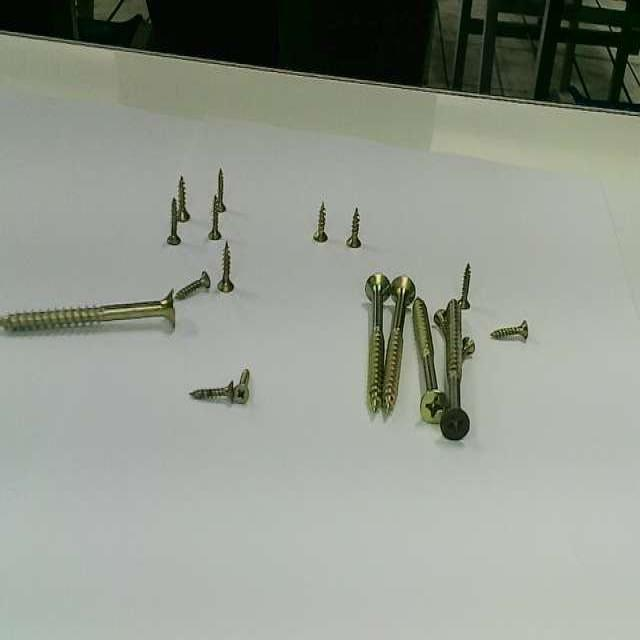Parafuso: (0, 289, 174, 329), (383, 276, 414, 412), (413, 297, 446, 421), (440, 299, 469, 439), (365, 273, 389, 412), (175, 271, 209, 299), (217, 243, 233, 292), (491, 320, 527, 339), (167, 197, 180, 244), (190, 383, 232, 397), (313, 201, 327, 241), (346, 207, 359, 247), (434, 309, 447, 348), (178, 175, 189, 221), (208, 195, 218, 239), (234, 369, 247, 401), (434, 309, 445, 340), (463, 337, 474, 360), (218, 168, 223, 211)
